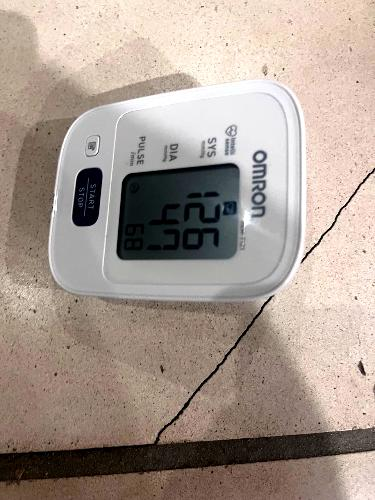bpm: (115, 161, 241, 261)
